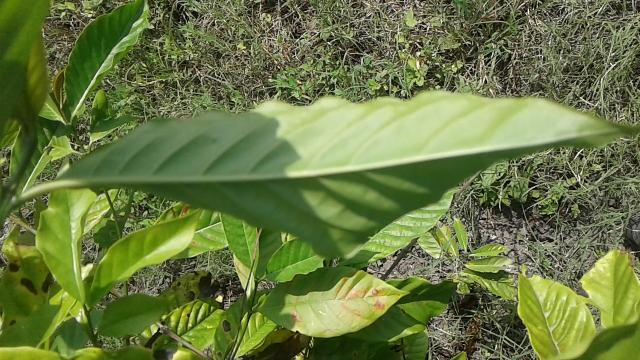healthy: (56, 92, 639, 257)
